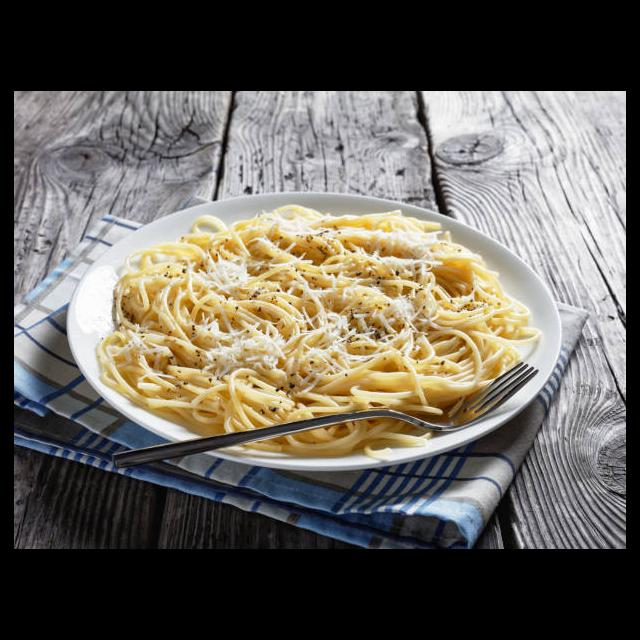noodles: (95, 204, 542, 462)
